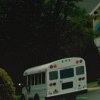Bus: (17, 53, 88, 100)
